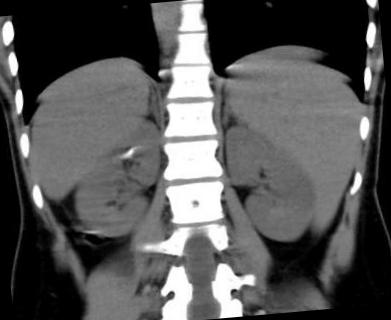Tas_Var: (126, 146, 135, 156)
